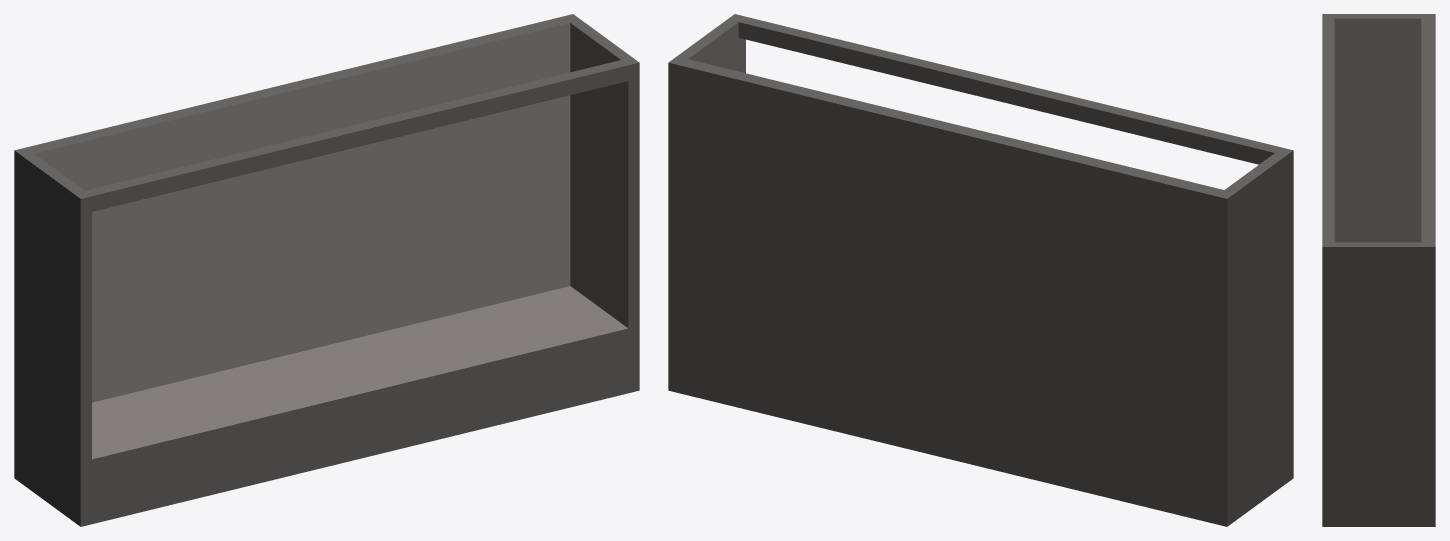
The model's file is AI_Prop_Guns_Cabinet_Empty_02.fbx.
The picture shows the model from 3 angles, left to right: view 1: azimuth 30°, elevation 25°; view 2: azimuth 150°, elevation 25°; view 3: azimuth 270°, elevation 25°; orthographic projection. The views are drawn at different scales.
Parts seen in each view (by area): view 1: AI_Prop_Guns_Cabinet_Empty_02; view 2: AI_Prop_Guns_Cabinet_Empty_02; view 3: AI_Prop_Guns_Cabinet_Empty_02.
Part boxes in pixels (x1=…): AI_Prop_Guns_Cabinet_Empty_02: x1=14, y1=14, x2=639, y2=526; AI_Prop_Guns_Cabinet_Empty_02: x1=668, y1=14, x2=1293, y2=526; AI_Prop_Guns_Cabinet_Empty_02: x1=1322, y1=14, x2=1435, y2=526.
Size of the model in its own units: 4.85 by 2.72 by 0.9983.
